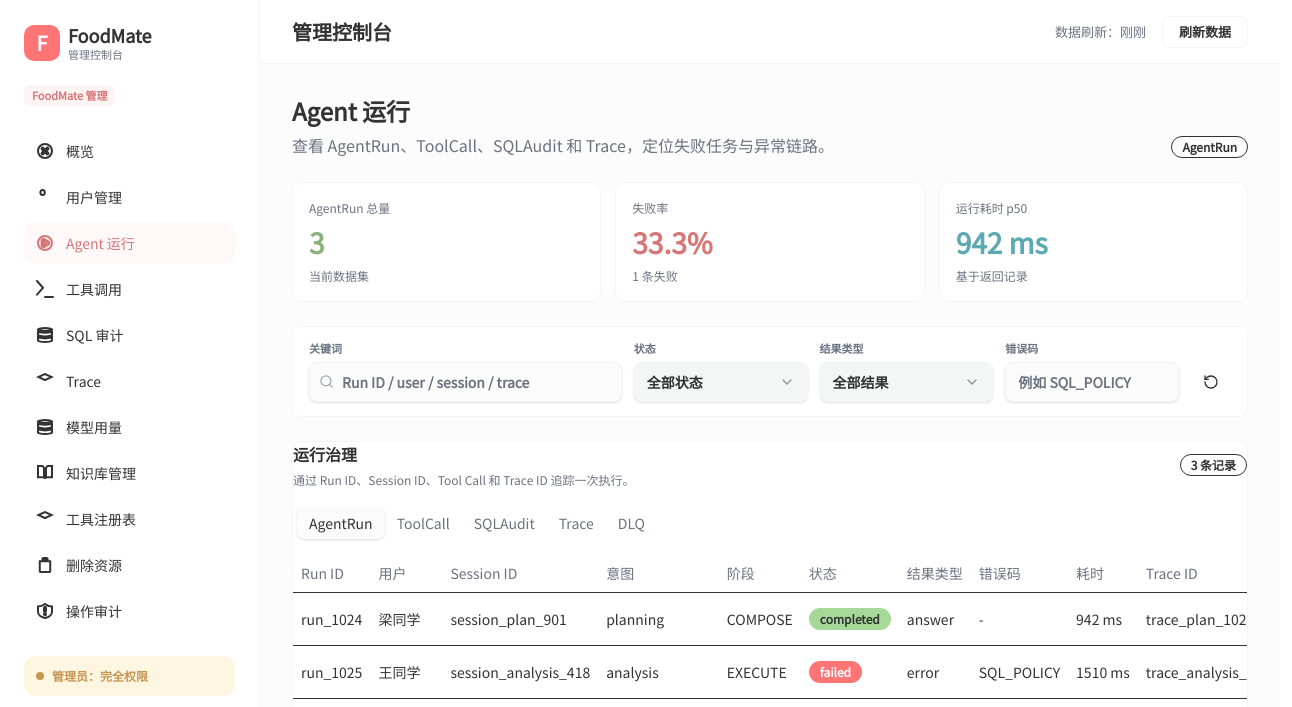
Test case: Admin run governance › renders complete governance tabs and filters runs by traceable identifiers
Expected: the column heading "Session ID" is shown, [442,553,598,593]
Expected: the text "SQL_POLICY" is shown, [971,646,1068,699]
Type "run_1025" into the field with placeholder "Run ID / user / session / trace" at (465,382), box [309,362,622,402]
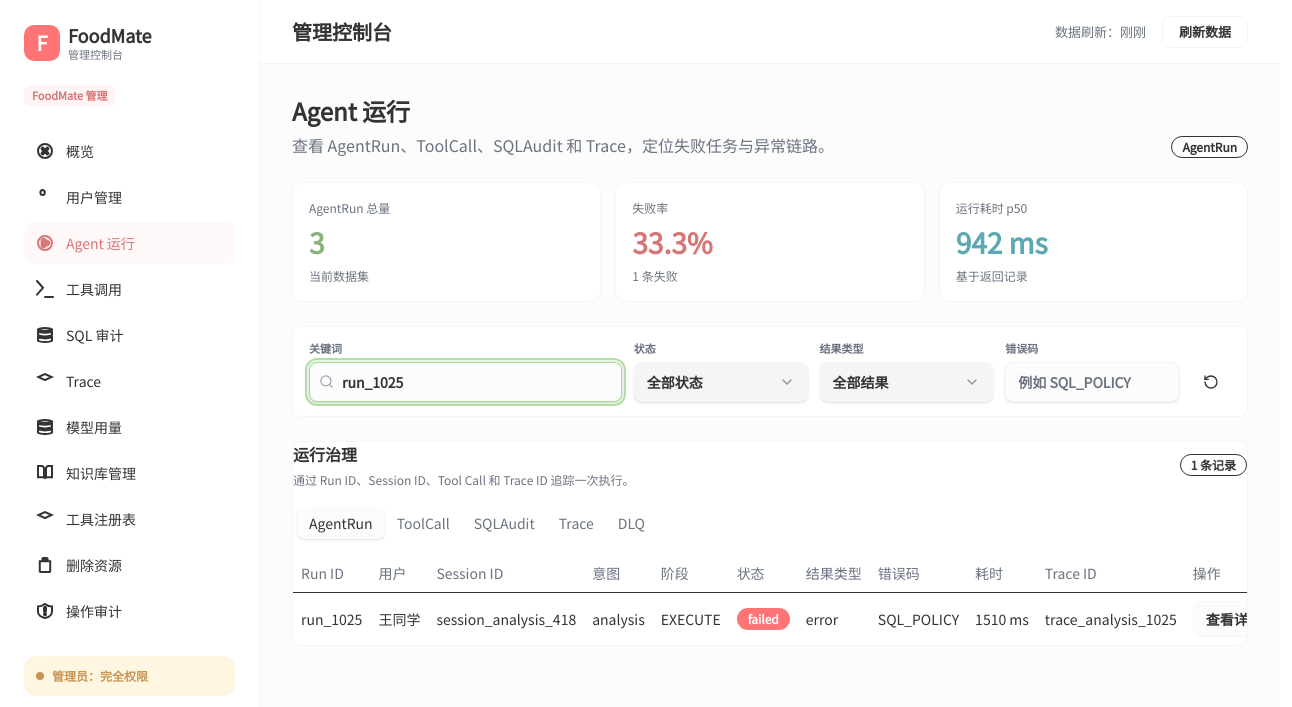
Expected: the text "run_1025" is shown, [293,593,370,645]
Result: the text "run_1024" is gone
Click the button named "重置筛选" at (1211,382), box [1191,362,1231,402]
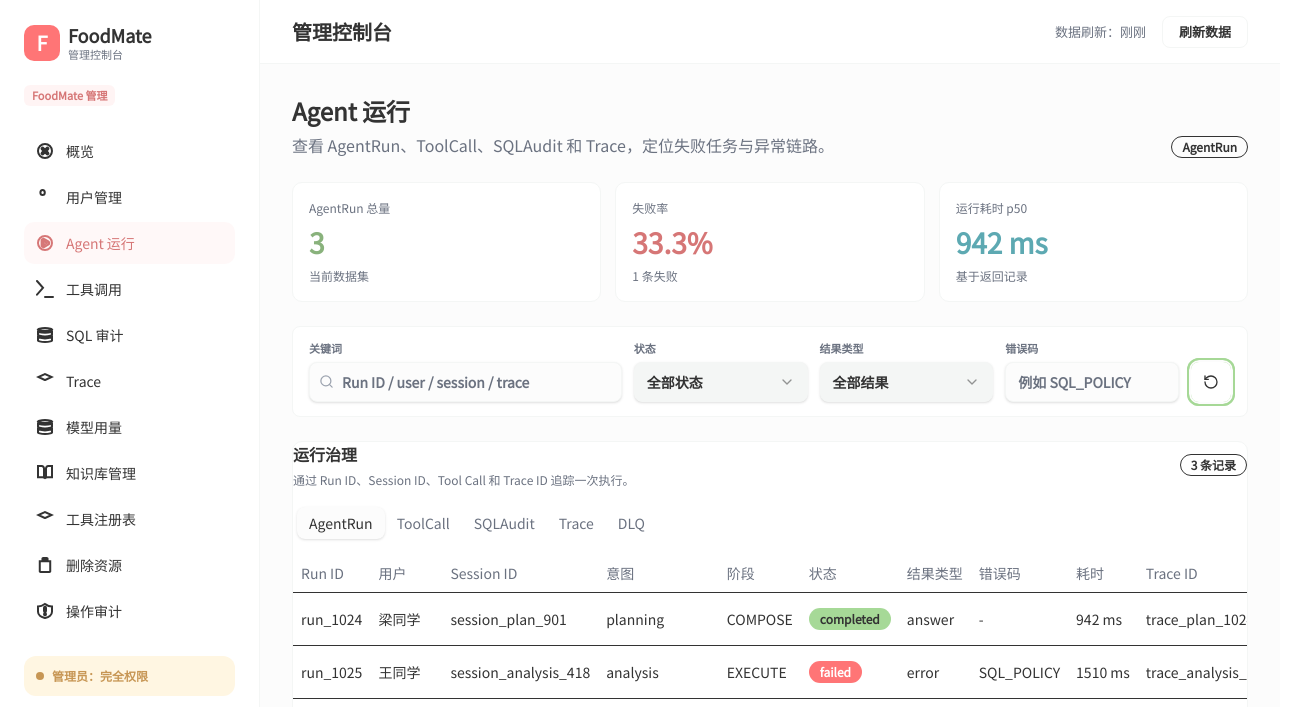
Result: the text "run_1024" is shown at [293,593,370,646]
Click the tab "ToolCall" at (423,523), box [385,507,462,539]
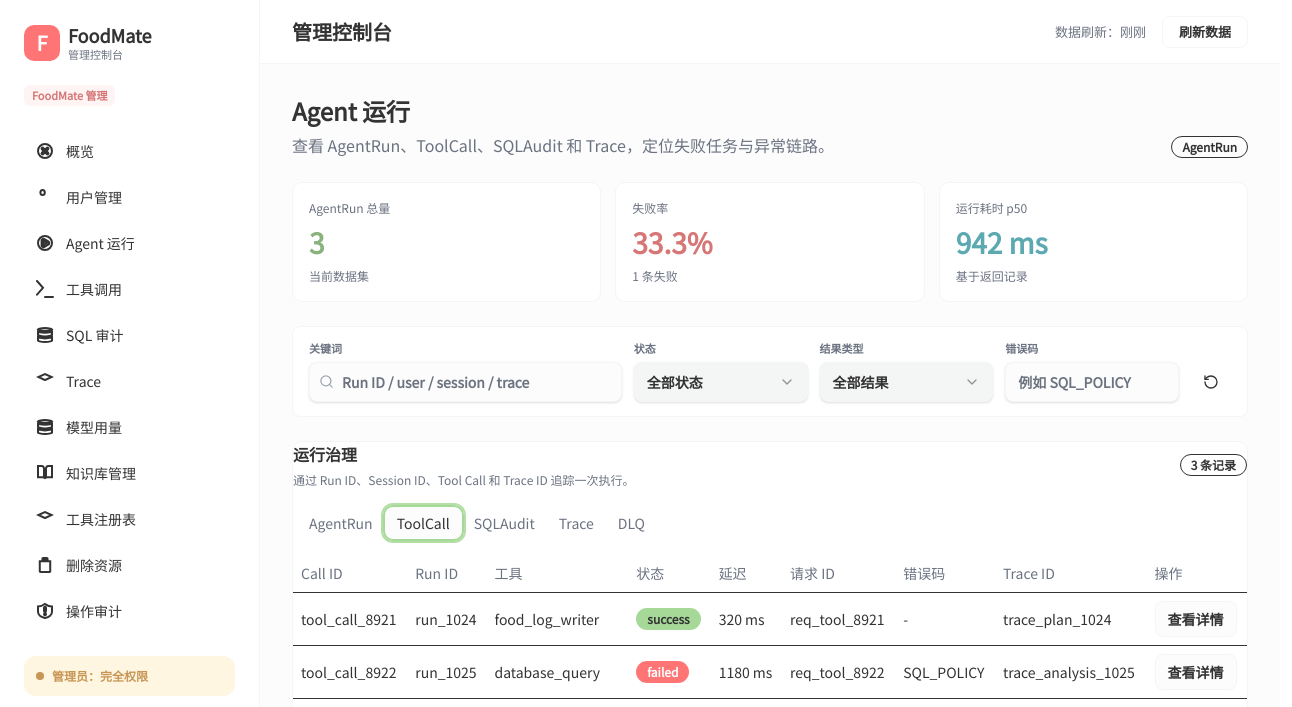
Result: the text "tool_call_8921" is shown at [293,593,407,646]
